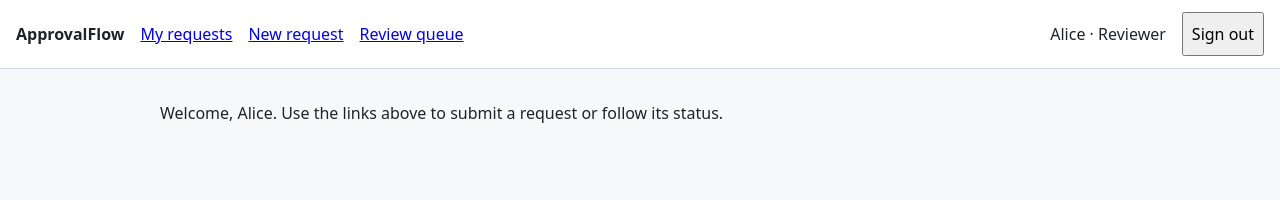
Test: App authentication (F-01) › shows the Review queue link to a reviewer and opens the queue
This screenshot has width=1280, height=200.
What coordinates should you click on to do the following:
click the link "Review queue"
I would click on:
 (412, 34)
Its box is [360,22,464,46].
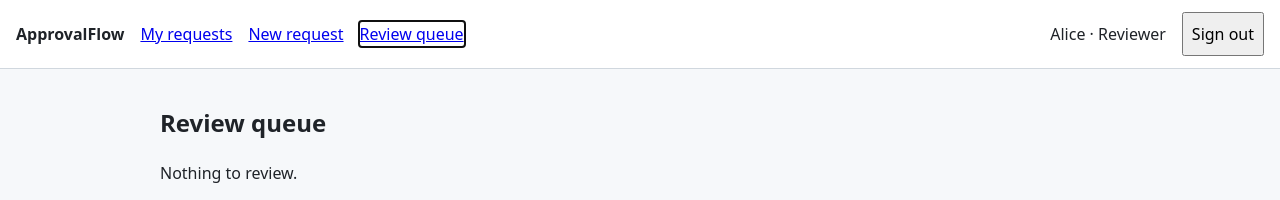
Check: the heading "Review queue" is shown, box [160,106,326,139]
Check: the text "Nothing to review." is shown, box [160,162,297,184]
